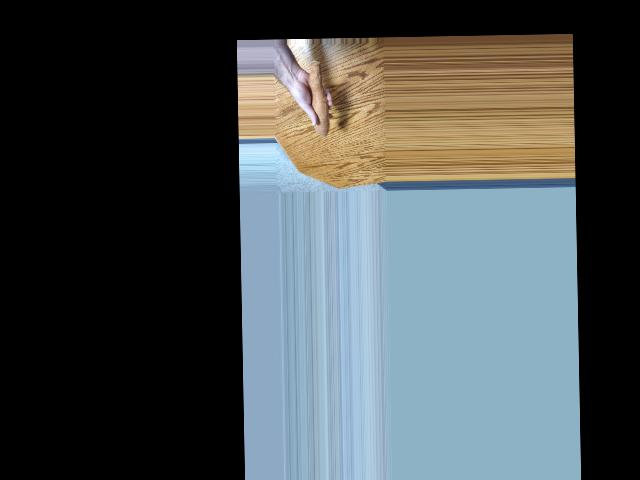sweet_potato: (304, 58, 329, 141)
